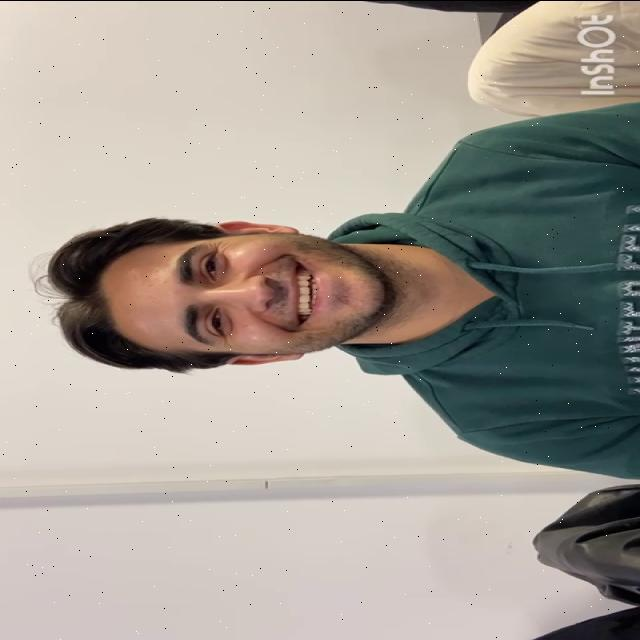happy: (97, 234, 394, 355)
